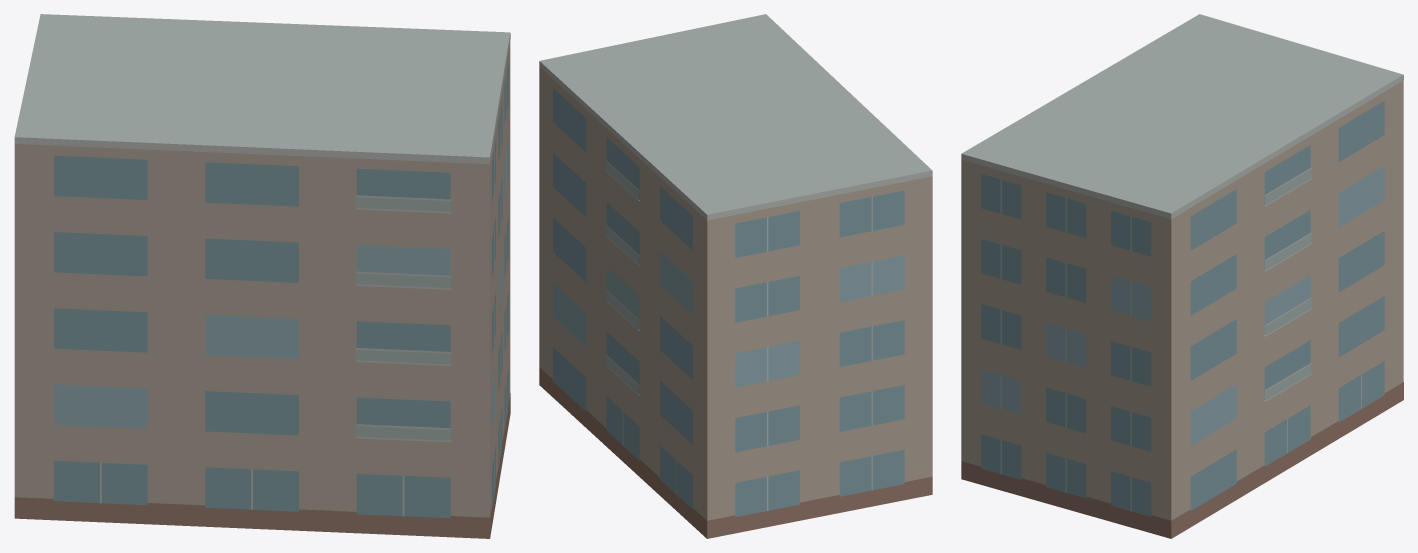
Rendered from survey-upis-32972404.glb.
3 renders of one model, left to right at view 1: azimuth 30°, elevation 25°; view 2: azimuth 150°, elevation 25°; view 3: azimuth 270°, elevation 25°, orthographic. The views are drawn at different scales.
Visible parts, largest first — view 1: survey-upis-32972404.tmp; view 2: survey-upis-32972404.tmp; view 3: survey-upis-32972404.tmp.
Part boxes in pixels (<box>): survey-upis-32972404.tmp: <box>14,14,510,538</box>; survey-upis-32972404.tmp: <box>539,14,932,538</box>; survey-upis-32972404.tmp: <box>961,14,1403,538</box>.
Size of the model in its own units: 18.16 by 13.8 by 17.02.
